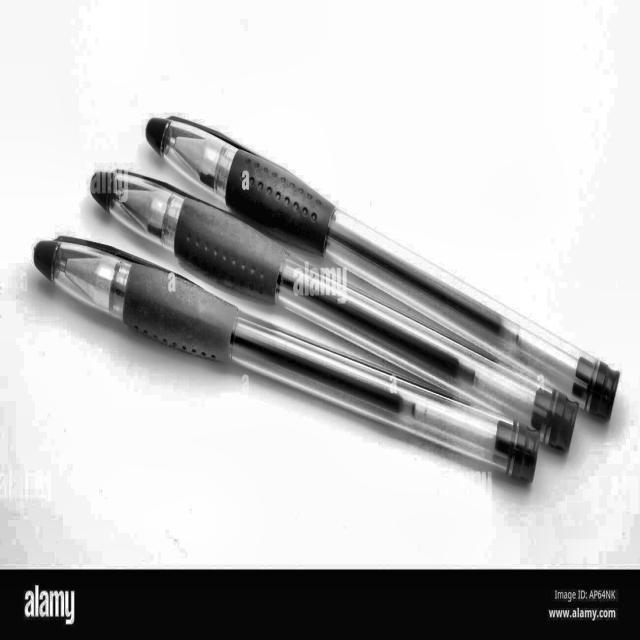Pen: (31, 106, 624, 514)
